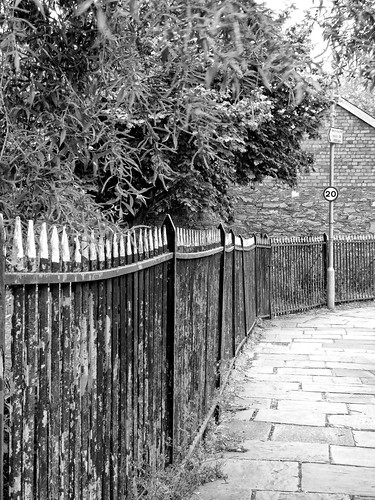sign: (324, 183, 344, 209)
tree: (1, 1, 315, 247)
